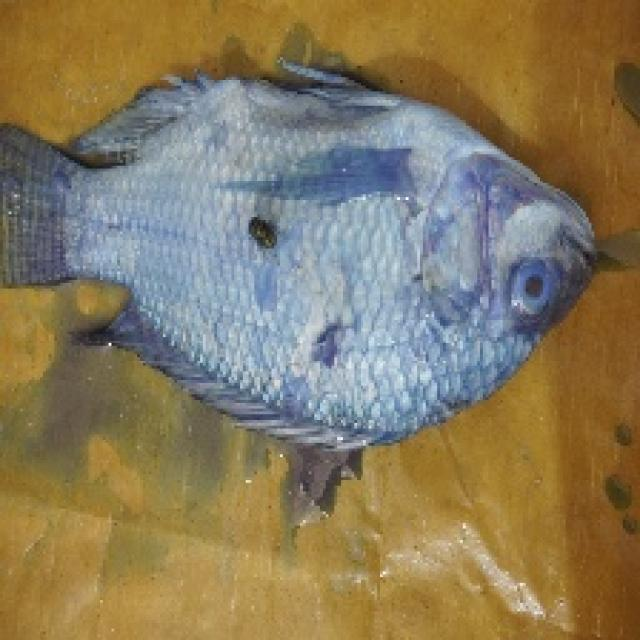Non-Fresh: (130, 69, 533, 420), (502, 242, 558, 329)
